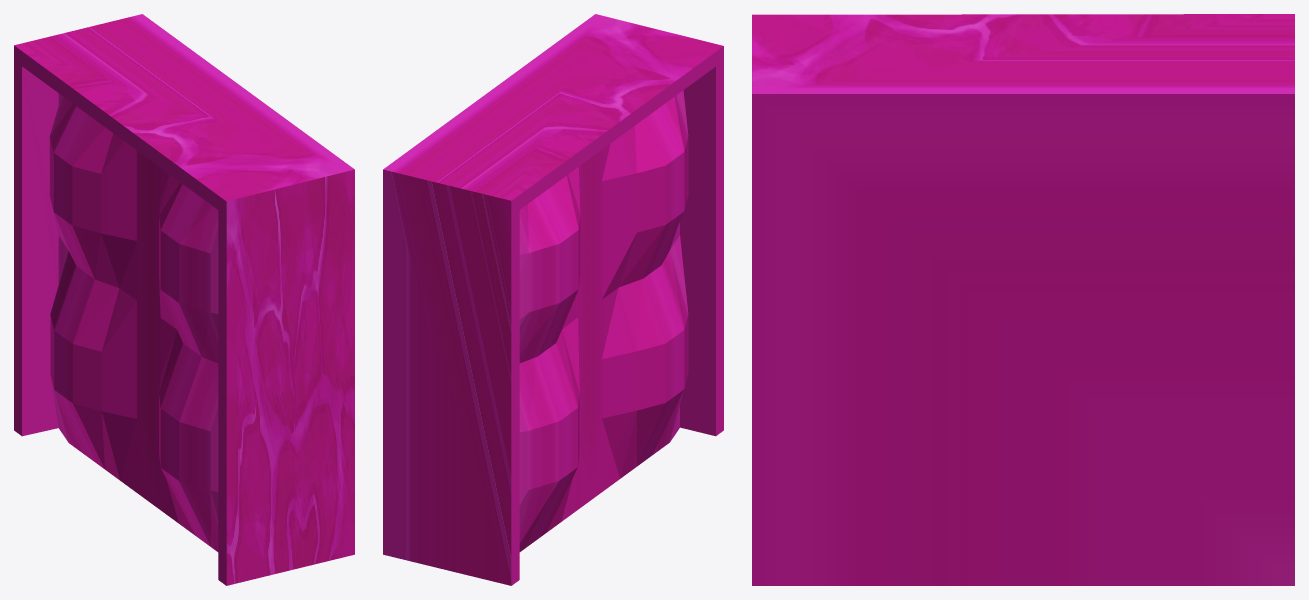
The model's file is EspacioPornoPuertaExteriorNS.gltf.
3 views of the same model, side by side, from view 1: azimuth 30°, elevation 25°; view 2: azimuth 150°, elevation 25°; view 3: azimuth 270°, elevation 25° (orthographic). The views are drawn at different scales.
Parts seen in each view (by area): view 1: Cubo.50; view 2: Cubo.50; view 3: Cubo.50.
Boxes of the visible parts, x1,y1,x2,y2 form: Cubo.50: [14, 14, 354, 585]; Cubo.50: [383, 14, 723, 585]; Cubo.50: [752, 14, 1294, 585].
Bounding box in the file's own units: 0.7227 × 2 × 2.
Materials: 1 (1 with a texture image).
